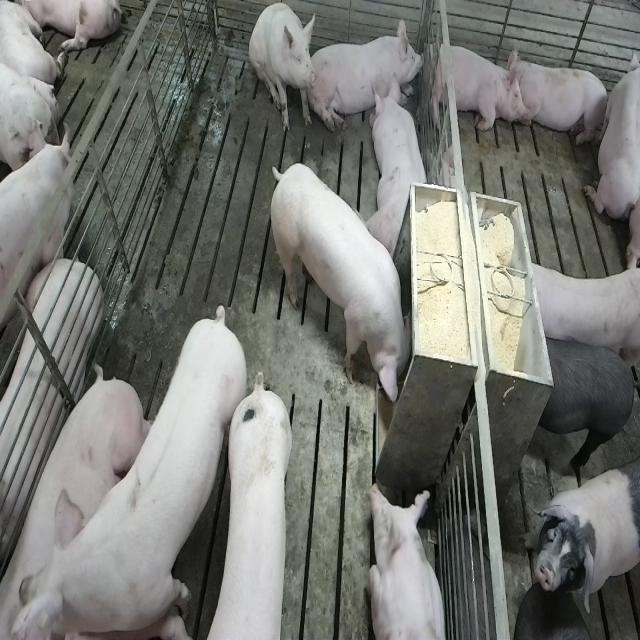Feeding: (266, 162, 410, 406)
Lateral_lying: (0, 370, 152, 639), (0, 255, 103, 579)
Sitting: (249, 3, 318, 135)
Standing: (32, 296, 248, 636), (215, 379, 293, 640), (0, 121, 78, 363), (527, 335, 636, 479), (530, 464, 637, 607), (520, 256, 638, 369)
Sternal_lying: (364, 479, 447, 640), (314, 15, 424, 133), (370, 79, 431, 260), (584, 38, 638, 224), (424, 36, 524, 135), (510, 51, 611, 149)
